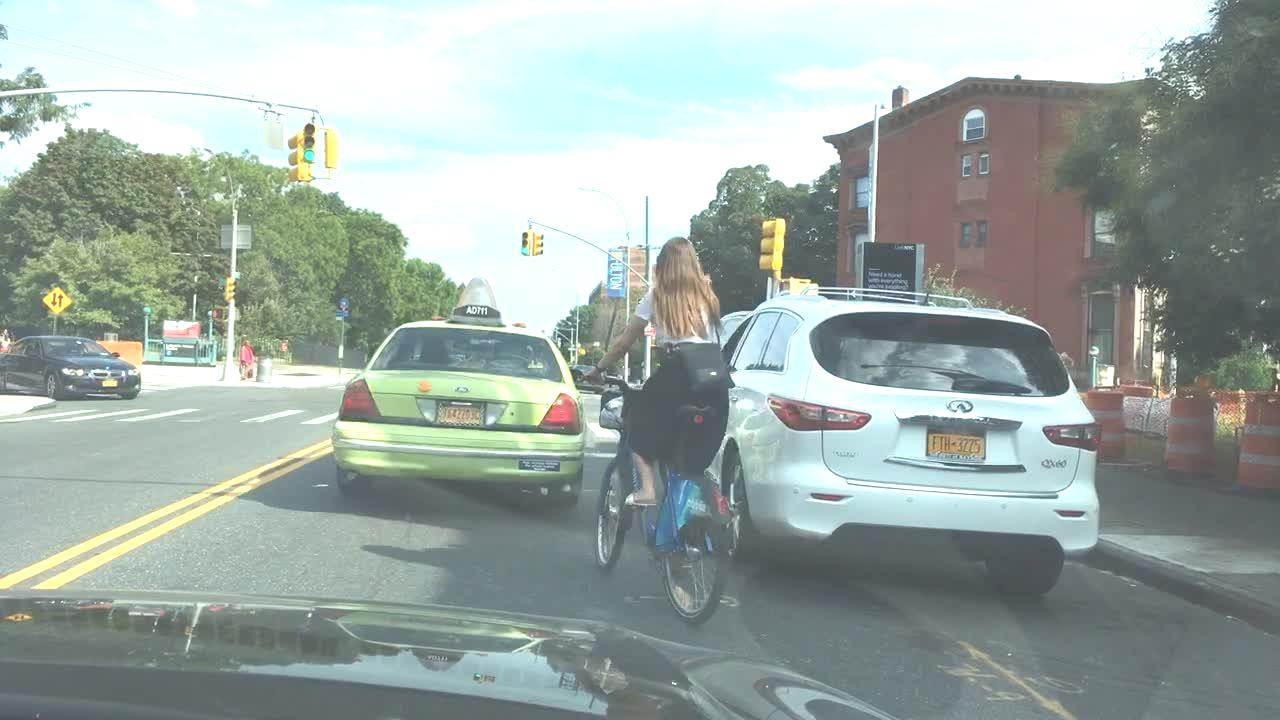Infiniti: (936, 392, 979, 418)
